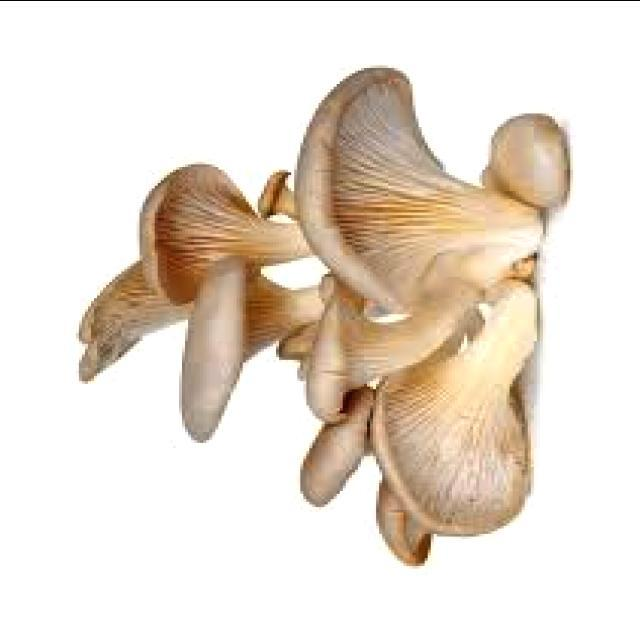Mushroom: (74, 49, 566, 569)
